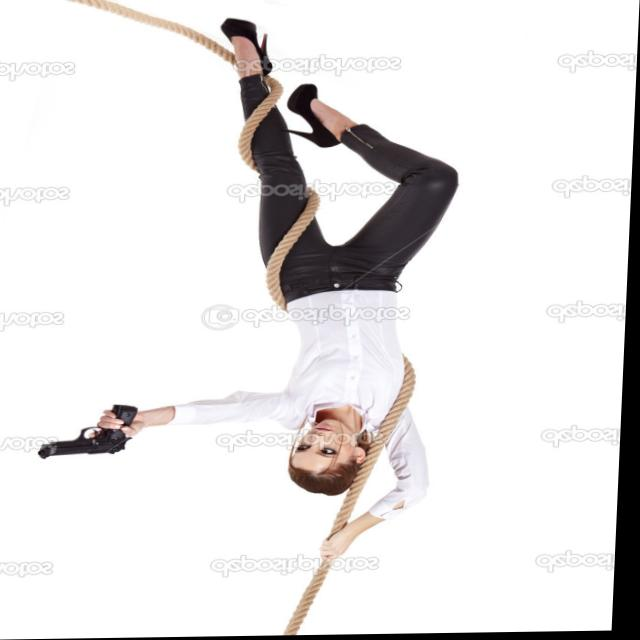handgun: (41, 402, 149, 463)
